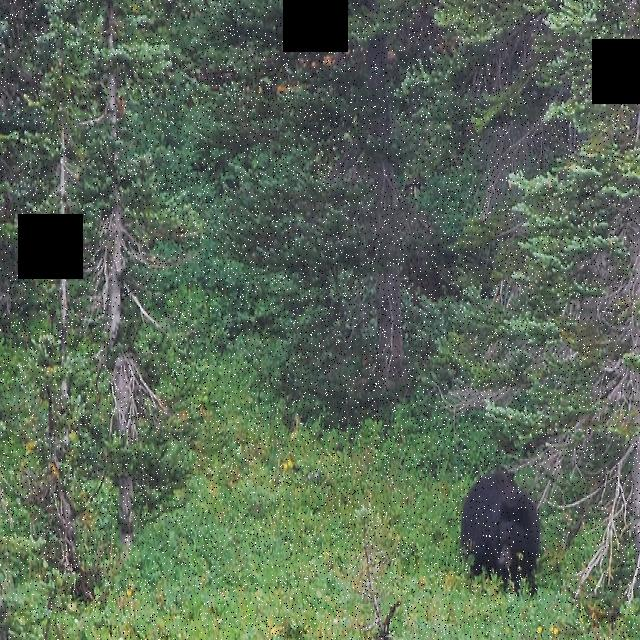Bear: (458, 469, 544, 595)
